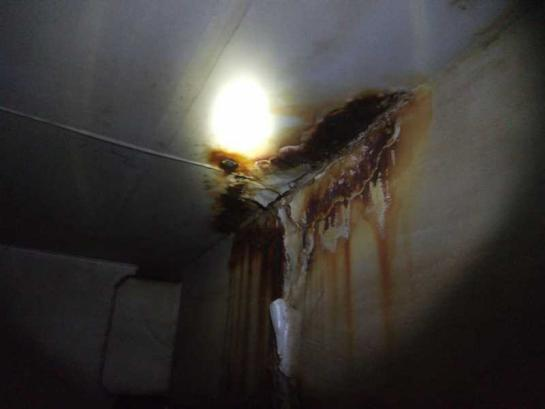corrosion: (298, 146, 388, 287), (254, 88, 399, 173), (219, 227, 274, 396), (393, 96, 445, 175), (190, 143, 254, 197), (194, 193, 251, 232)
